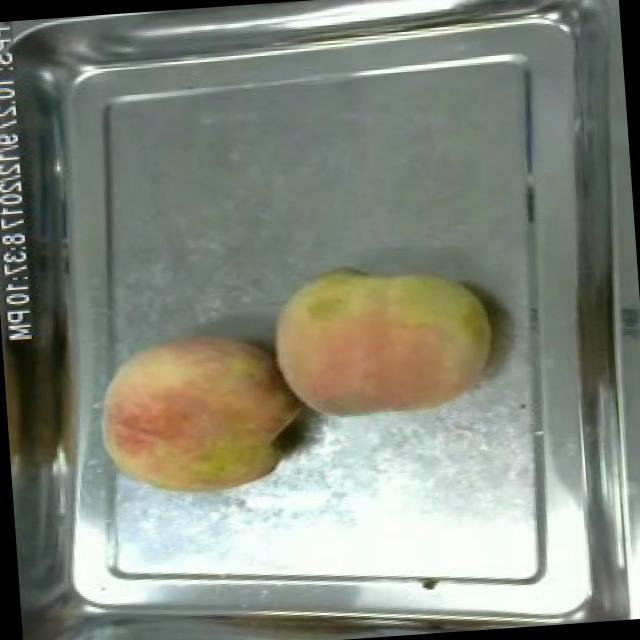Fruit: (82, 318, 306, 512), (264, 254, 502, 433)
